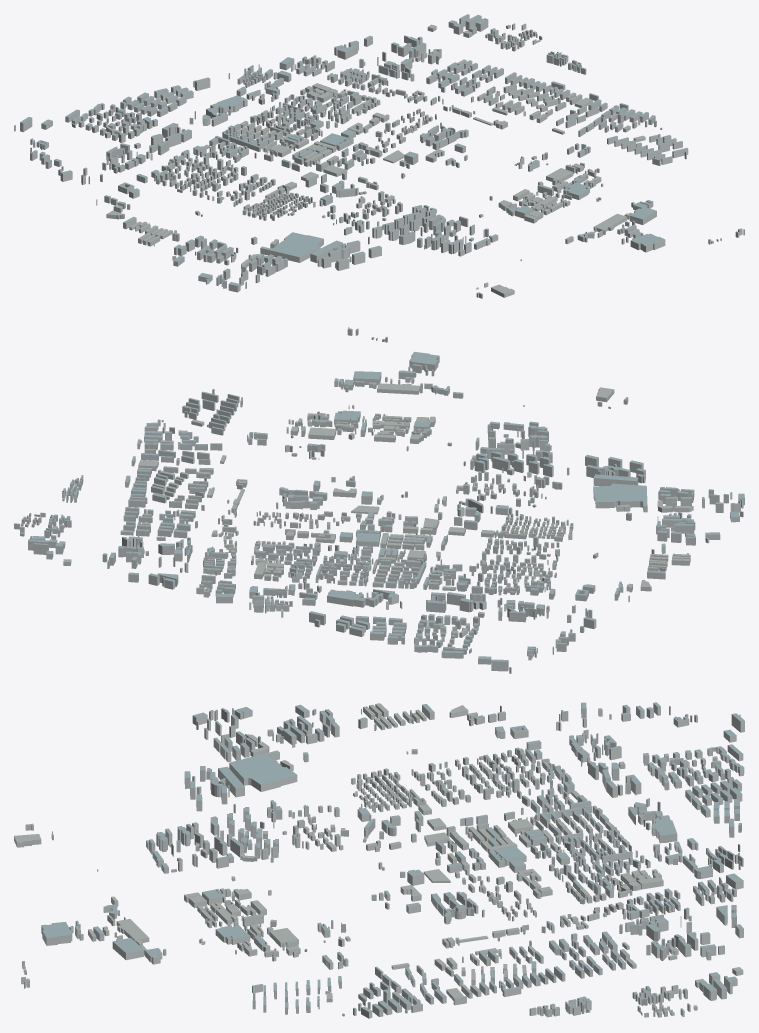
File: far.glb
3 views of the same model, one above another, from view 1: azimuth 30°, elevation 25°; view 2: azimuth 150°, elevation 25°; view 3: azimuth 270°, elevation 25° (orthographic). The views are drawn at different scales.
Size of the model in its own units: 2131 by 38.2 by 2123.
